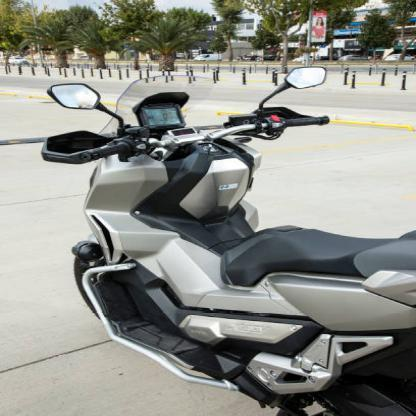Motorcycle: (37, 55, 415, 415)
